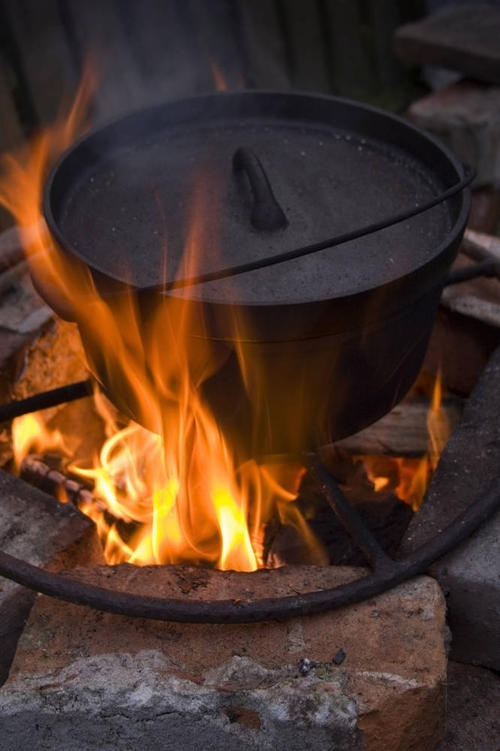fire: (0, 104, 311, 590), (365, 370, 452, 509)
